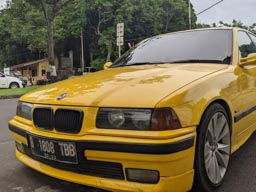plat: (26, 137, 75, 166)
